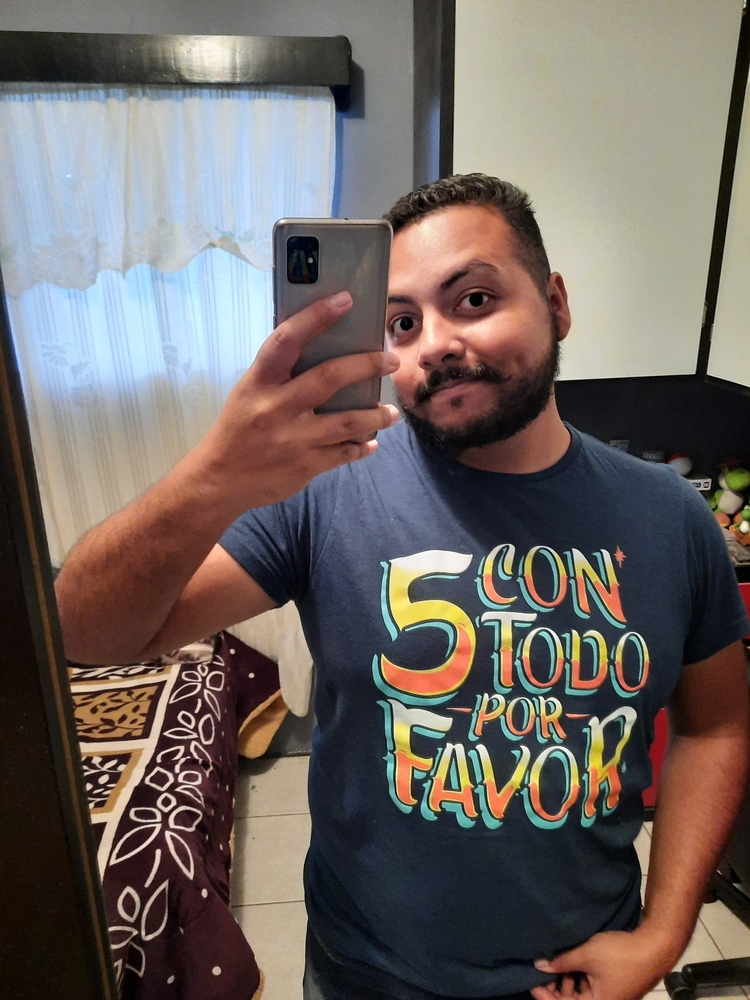Yoshi: (340, 139, 625, 486)
